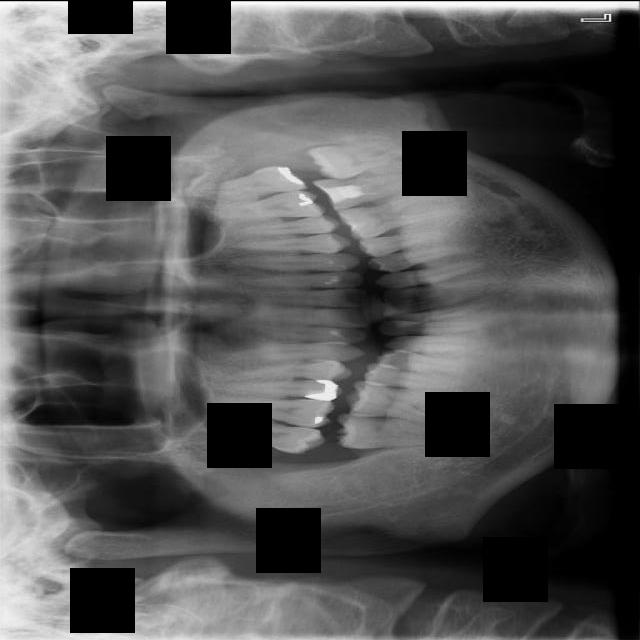52: (312, 158, 370, 219), (336, 201, 392, 244), (280, 397, 339, 429), (250, 164, 309, 194), (272, 188, 327, 217), (295, 376, 344, 402), (309, 325, 367, 344), (304, 251, 360, 270), (314, 271, 364, 287)
73: (350, 170, 416, 203), (571, 48, 579, 65)
BioHorizons Implant: (182, 160, 310, 206)
Biomet 3i Implant: (304, 135, 409, 183)
Blue Sky Bio Implant: (312, 170, 415, 212)
Caries: (195, 417, 327, 455)
Implant: (337, 411, 452, 452)
